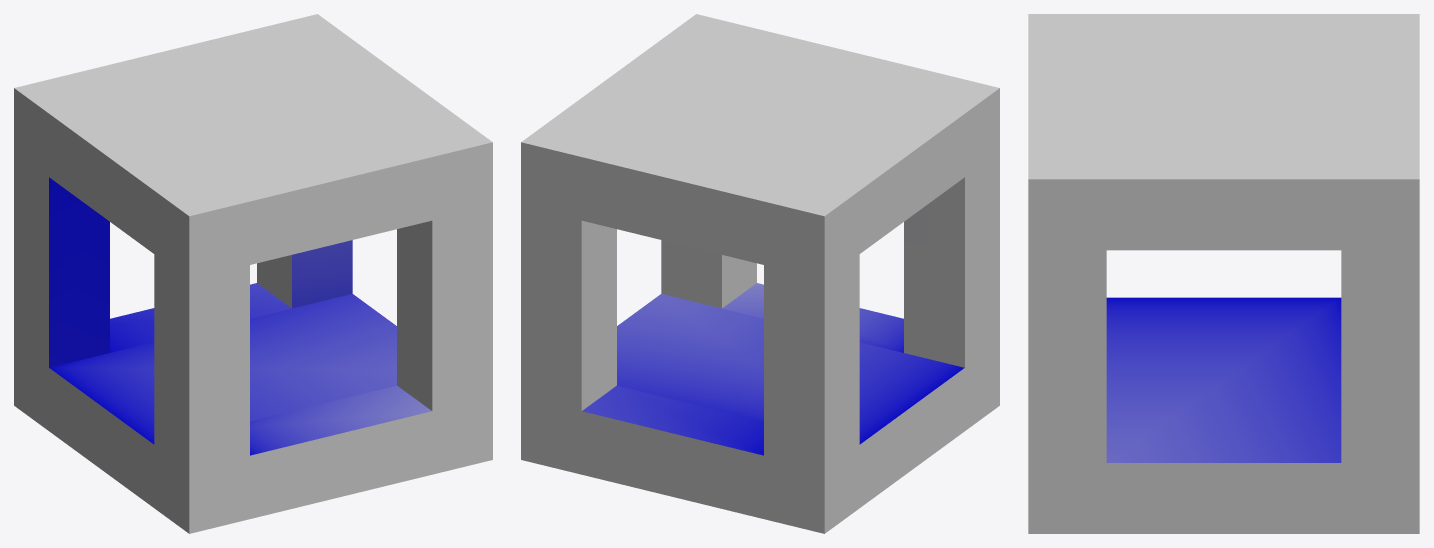
The model's file is Tile_Puzzle_1.fbx.
3 renders of one model, left to right at view 1: azimuth 30°, elevation 25°; view 2: azimuth 150°, elevation 25°; view 3: azimuth 270°, elevation 25°, orthographic. The views are drawn at different scales.
Visible parts, largest first — view 1: Tile_Puzzle_1; view 2: Tile_Puzzle_1; view 3: Tile_Puzzle_1.
Boxes of the visible parts, x1,y1,x2,y2 form: Tile_Puzzle_1: [14, 14, 492, 533]; Tile_Puzzle_1: [521, 14, 999, 533]; Tile_Puzzle_1: [1028, 14, 1419, 533].
Bounding box in the file's own units: 200 × 200 × 200.
